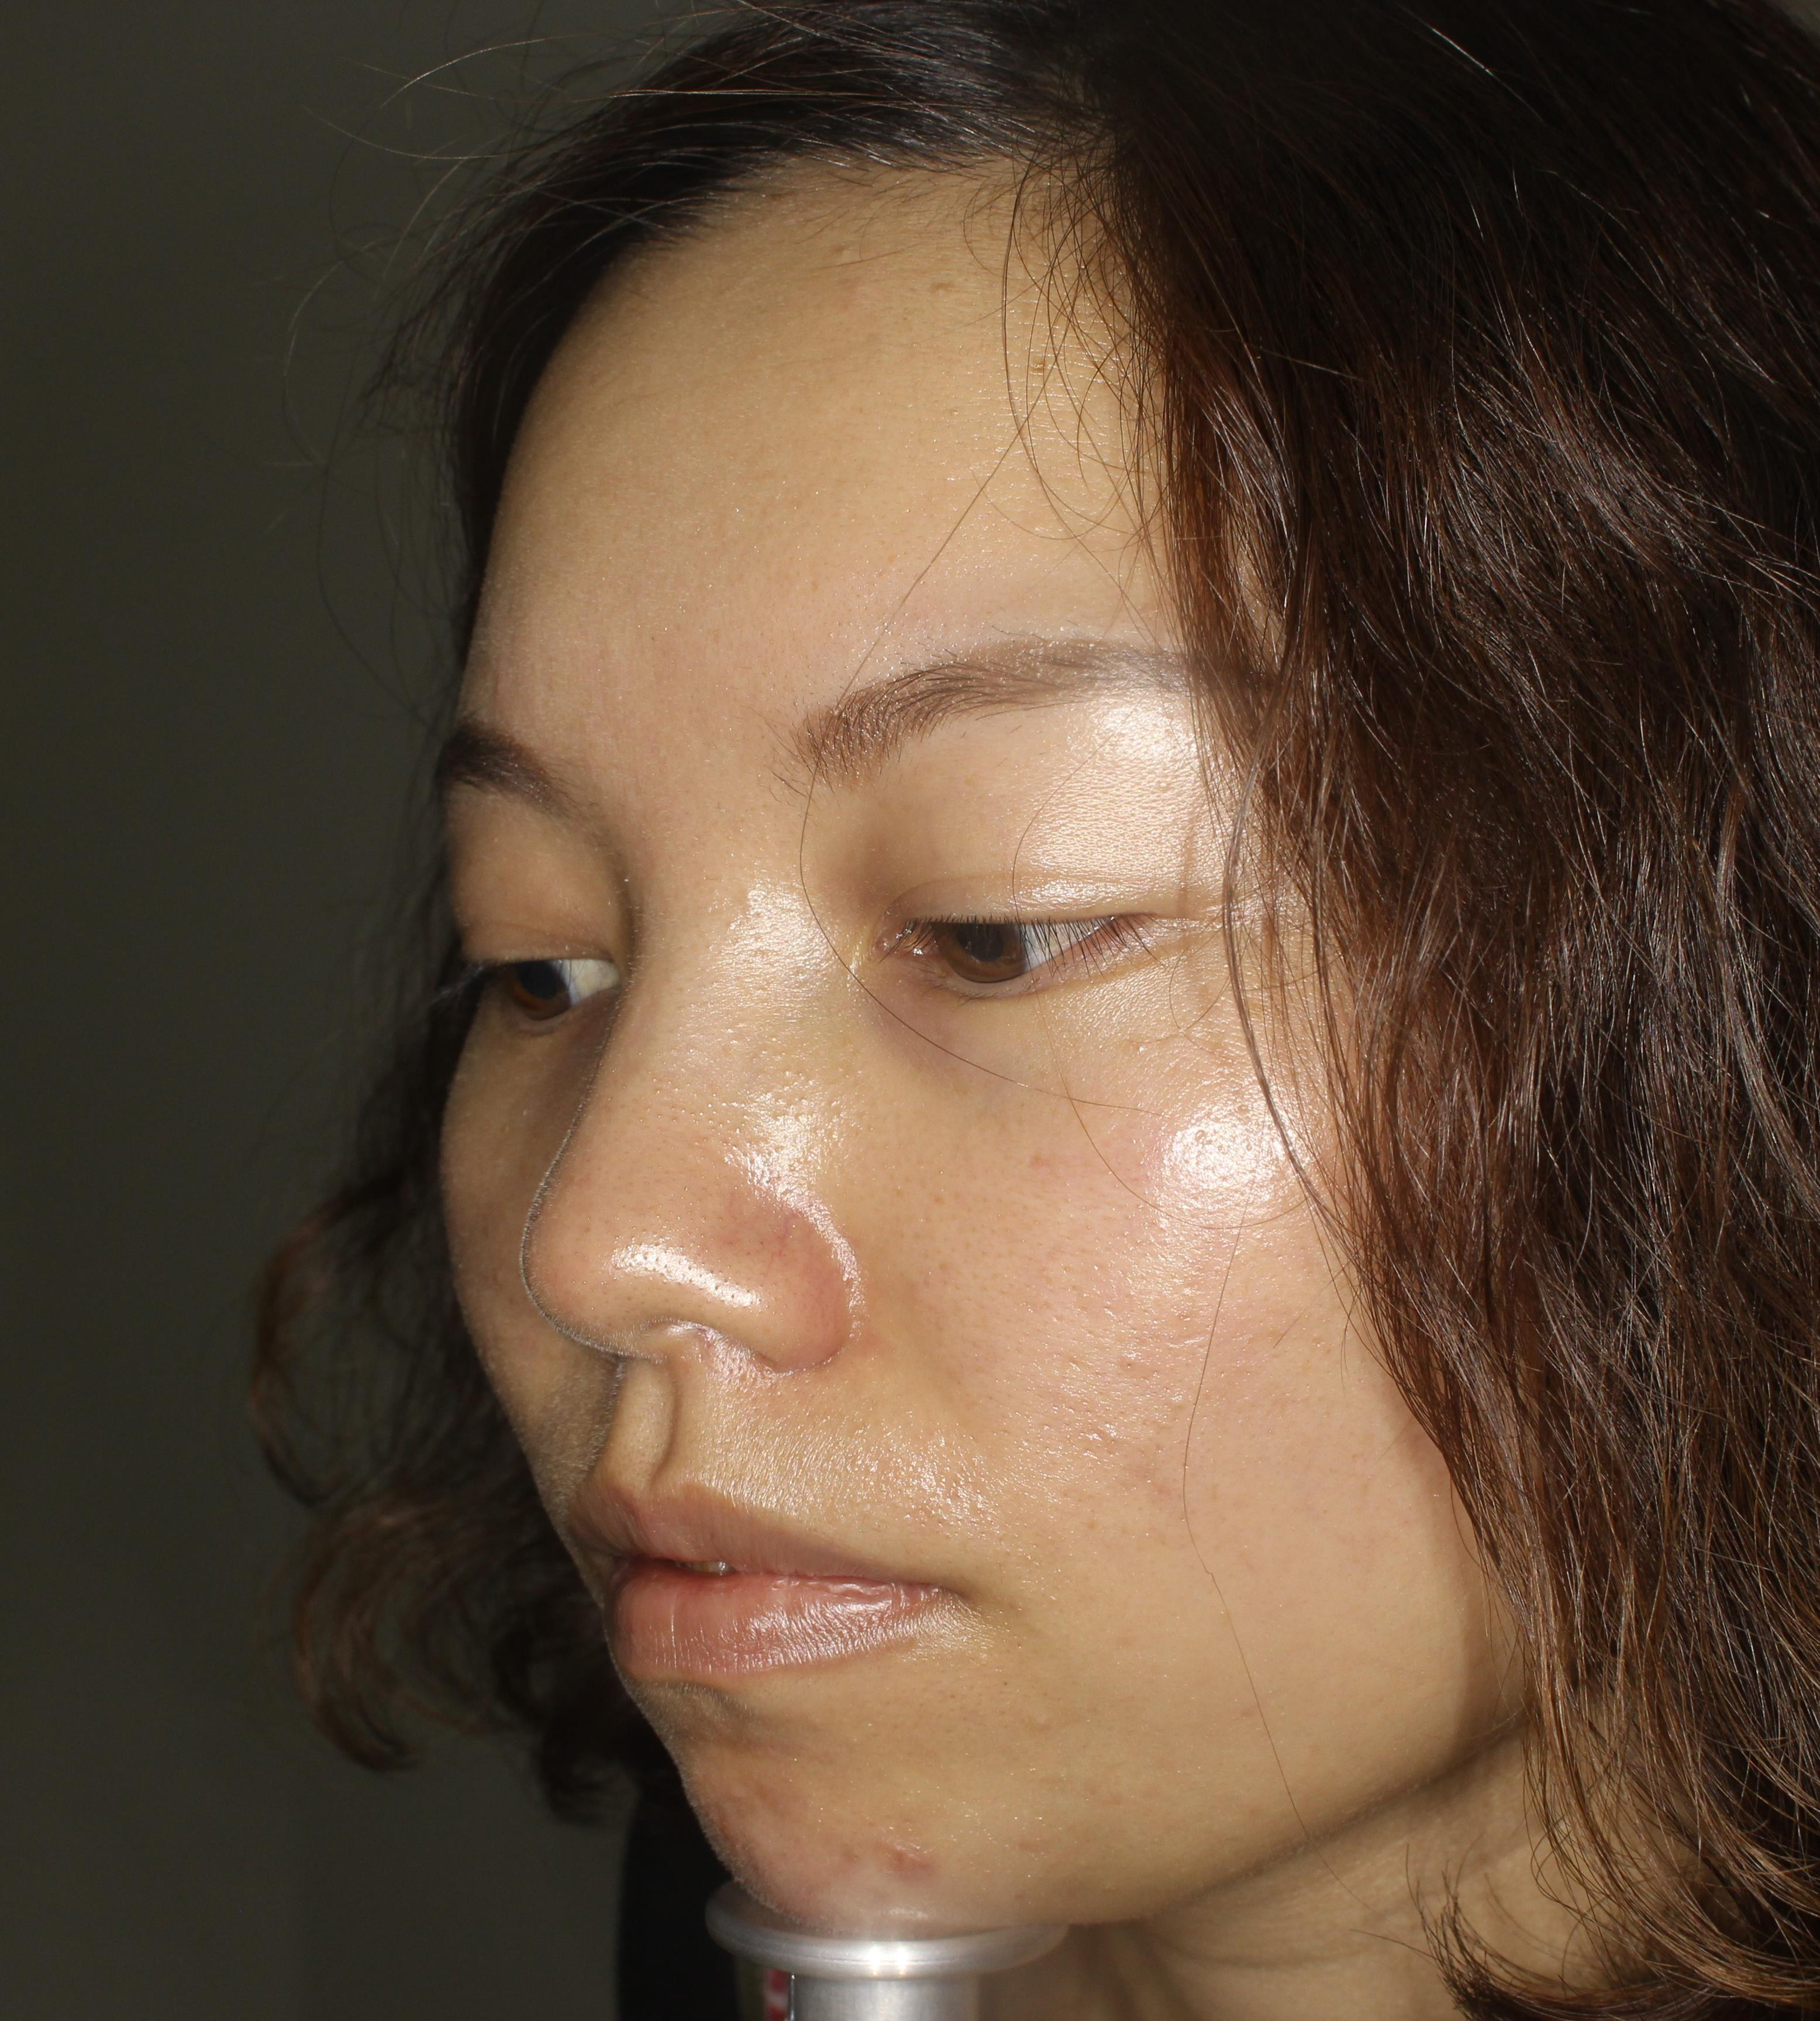fore: (852, 1826, 956, 1916)
